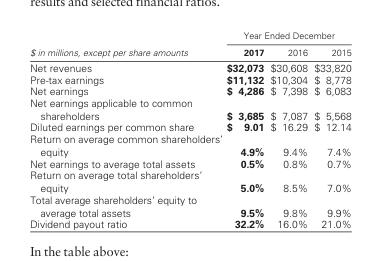table: (29, 29, 350, 229)
table column: (29, 29, 223, 229), (266, 29, 310, 229), (223, 29, 266, 229), (310, 29, 350, 229)
table column header: (29, 29, 350, 59)
table row: (29, 132, 350, 157), (29, 168, 350, 193), (29, 96, 350, 120), (29, 193, 350, 217), (29, 43, 350, 59), (29, 29, 350, 43), (29, 59, 350, 73), (29, 84, 350, 96), (29, 120, 350, 132), (29, 217, 350, 229), (29, 73, 350, 84), (29, 157, 350, 168)
table spanning cell: (29, 29, 223, 59), (223, 29, 350, 43)
